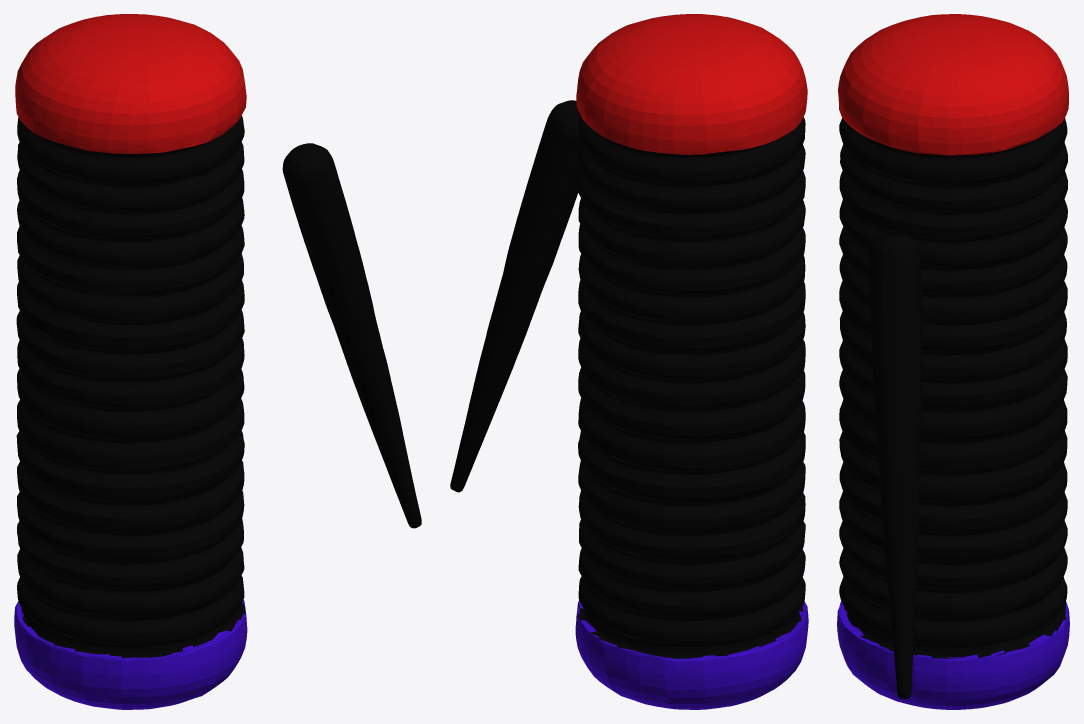
File: brandonOBJ.obj
The picture shows the model from 3 angles, left to right: view 1: azimuth 30°, elevation 25°; view 2: azimuth 150°, elevation 25°; view 3: azimuth 270°, elevation 25°; orthographic projection.
Visible parts, largest first — view 1: model.001_madera, model.001_Material.001, model.002_madera, model.001_Material.002; view 2: model.001_madera, model.001_Material.001, model.002_madera, model.001_Material.002; view 3: model.001_madera, model.001_Material.001, model.002_madera, model.001_Material.002.
Boxes of the visible parts, bbox=[...] form: model.001_madera: bbox=[16, 116, 245, 658]; model.001_Material.001: bbox=[15, 14, 246, 153]; model.002_madera: bbox=[282, 143, 421, 528]; model.001_Material.002: bbox=[14, 600, 247, 709]; model.001_madera: bbox=[577, 115, 805, 658]; model.001_Material.001: bbox=[576, 14, 807, 154]; model.002_madera: bbox=[450, 100, 580, 492]; model.001_Material.002: bbox=[575, 600, 808, 709]; model.001_madera: bbox=[839, 118, 1067, 658]; model.001_Material.001: bbox=[838, 14, 1068, 155]; model.002_madera: bbox=[869, 234, 922, 698]; model.001_Material.002: bbox=[837, 601, 1069, 709].
Bounding box in the file's own units: 1.12 × 1.9 × 0.6153.
